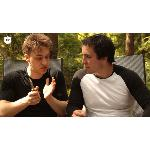Pisau: (22, 74, 46, 102)
